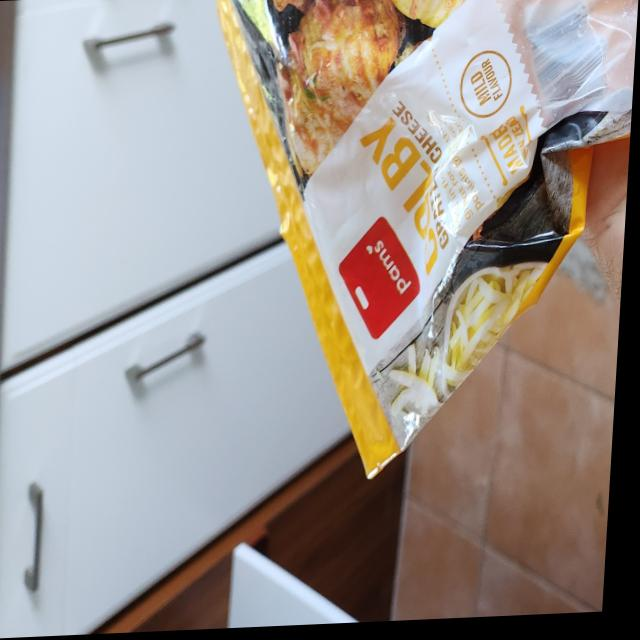cheese: (188, 0, 640, 495)
